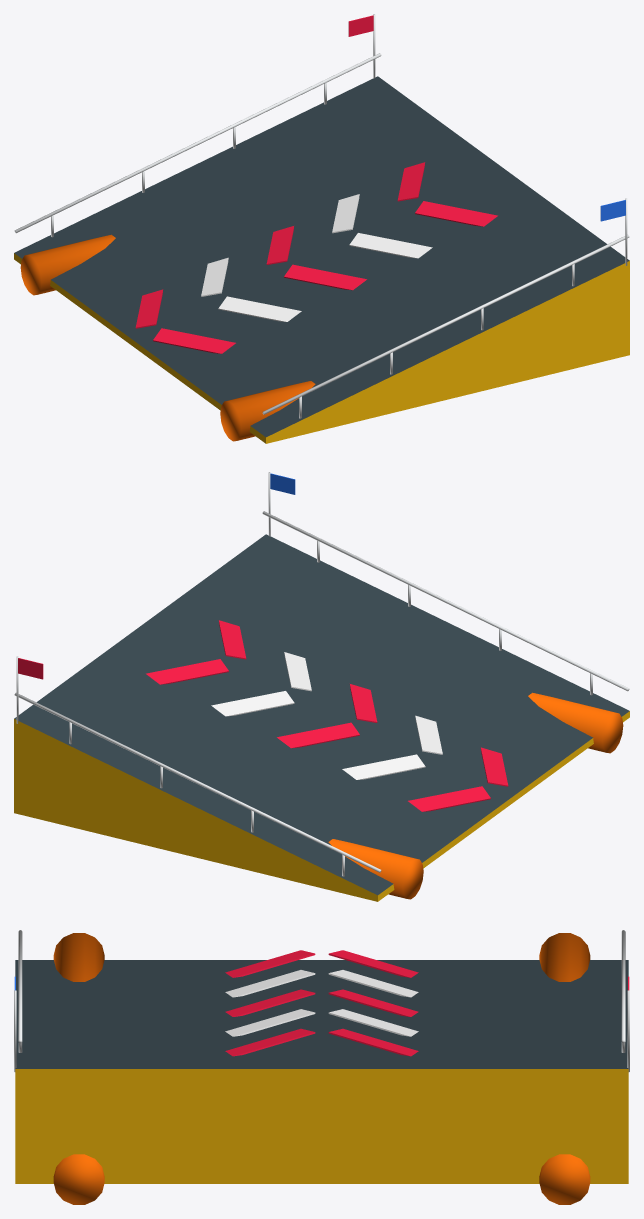
Rendered from Ramp.glb.
3 renders of one model, top to bottom at view 1: azimuth 30°, elevation 25°; view 2: azimuth 150°, elevation 25°; view 3: azimuth 270°, elevation 25°, orthographic. The views are drawn at different scales.
Parts seen in each view (by area): view 1: Ramp; view 2: Ramp; view 3: Ramp.
Boxes of the visible parts, x1,y1,x2,y2 form: Ramp: (14, 14, 629, 443); Ramp: (14, 472, 629, 901); Ramp: (14, 930, 629, 1204).
Size of the model in its own units: 21 by 8.92 by 24.1.
